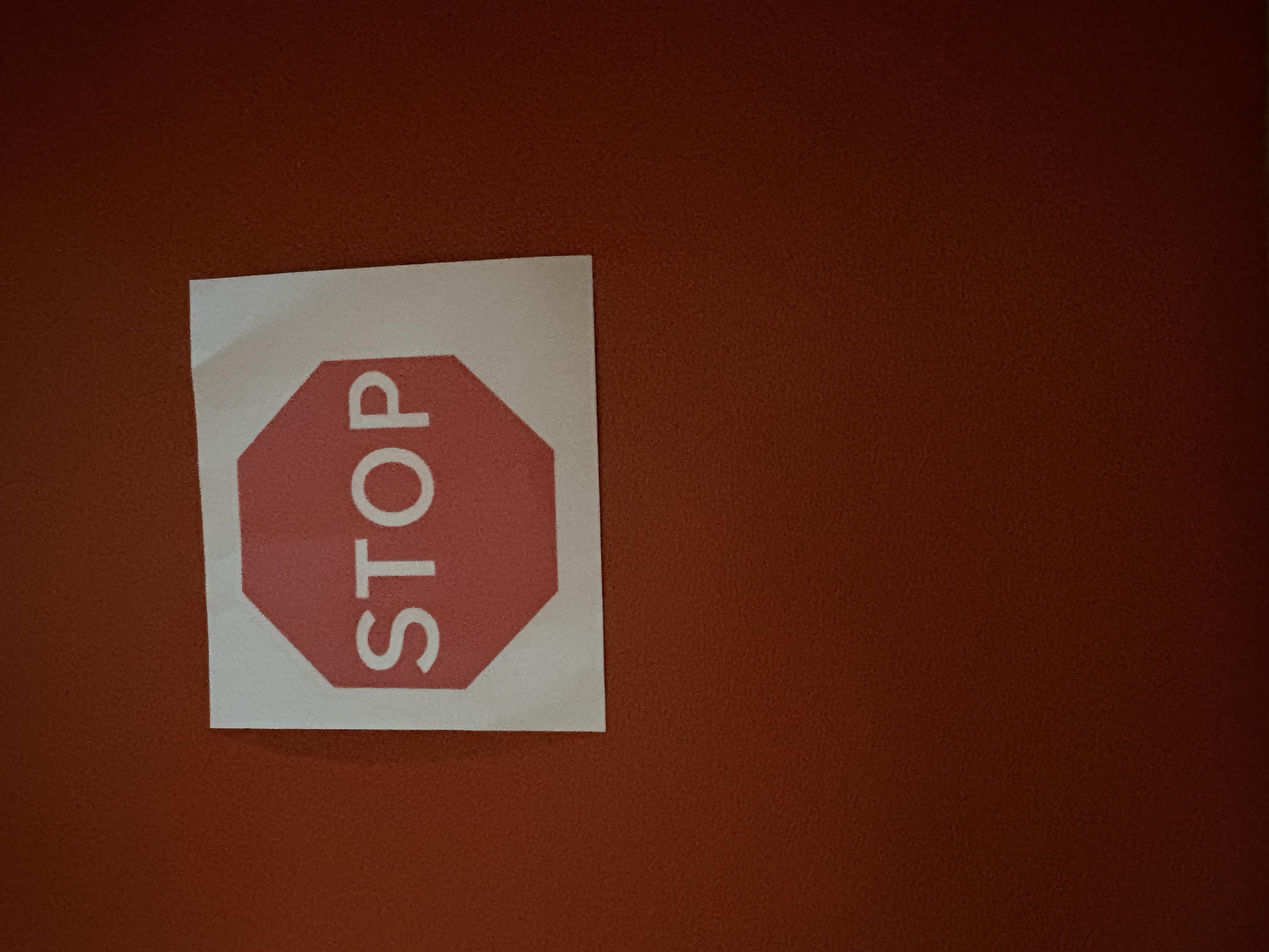Stop: (184, 256, 609, 731)
